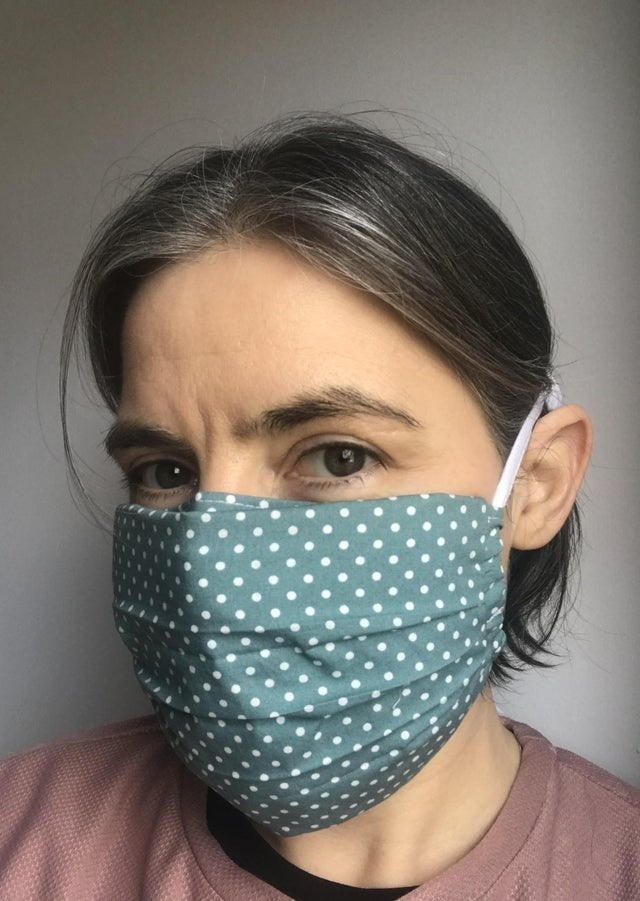face_with_mask: (77, 109, 569, 840)
